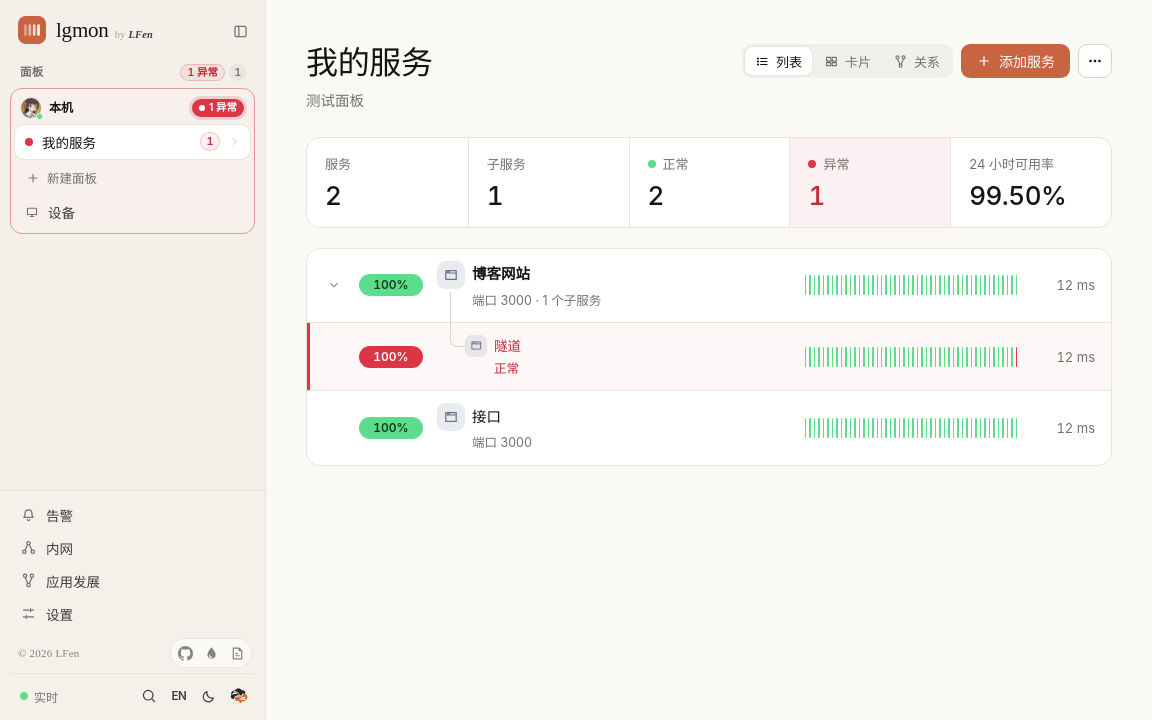
lists services with the troubled group first and its children open
Click the button named "收起博客网站的子服务".
click(334, 285)  # box [323, 274, 345, 296]
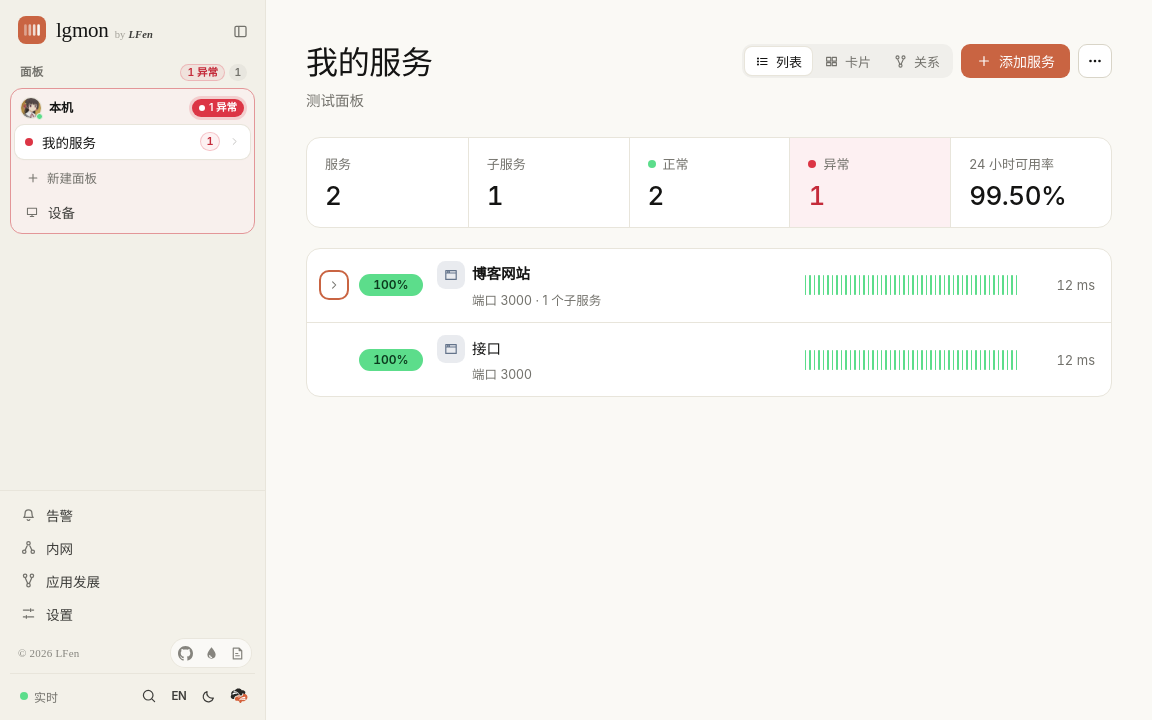
Now the link "隧道" is gone
Click the button named "展开博客网站的子服务".
click(334, 285)  # box [323, 274, 345, 296]
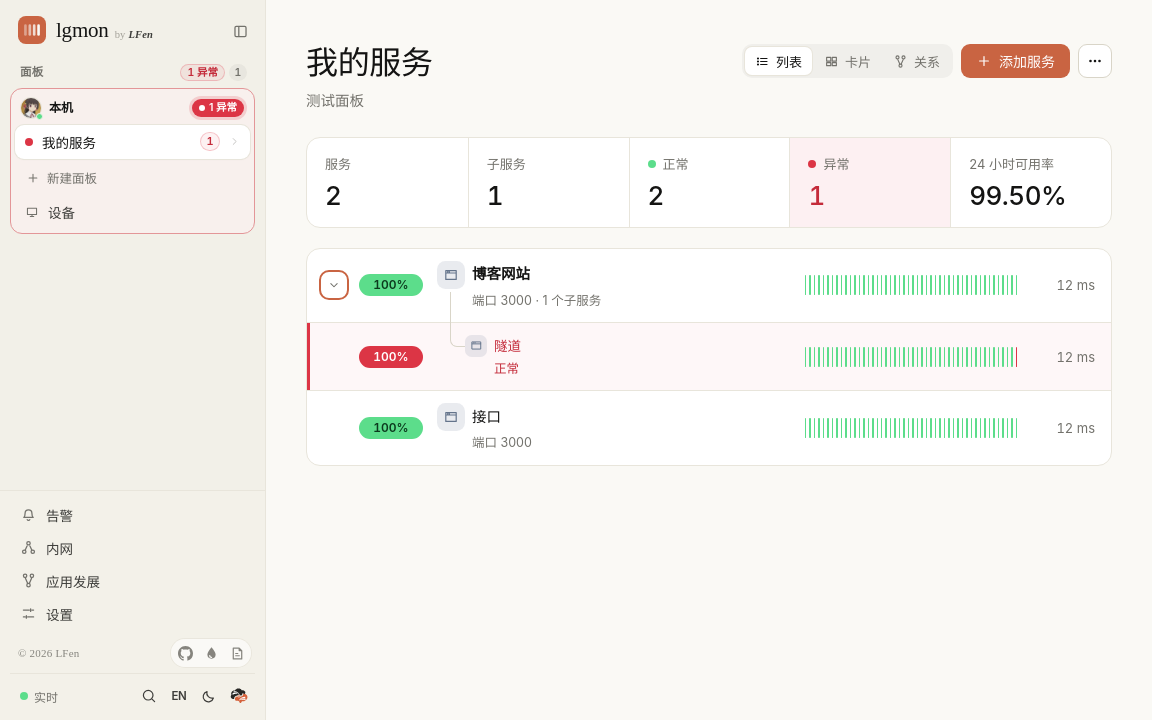
Expected: the text "99.50%" is shown, [969, 180, 1066, 211]
Now the text "隧道" is shown, box [494, 336, 521, 356]
